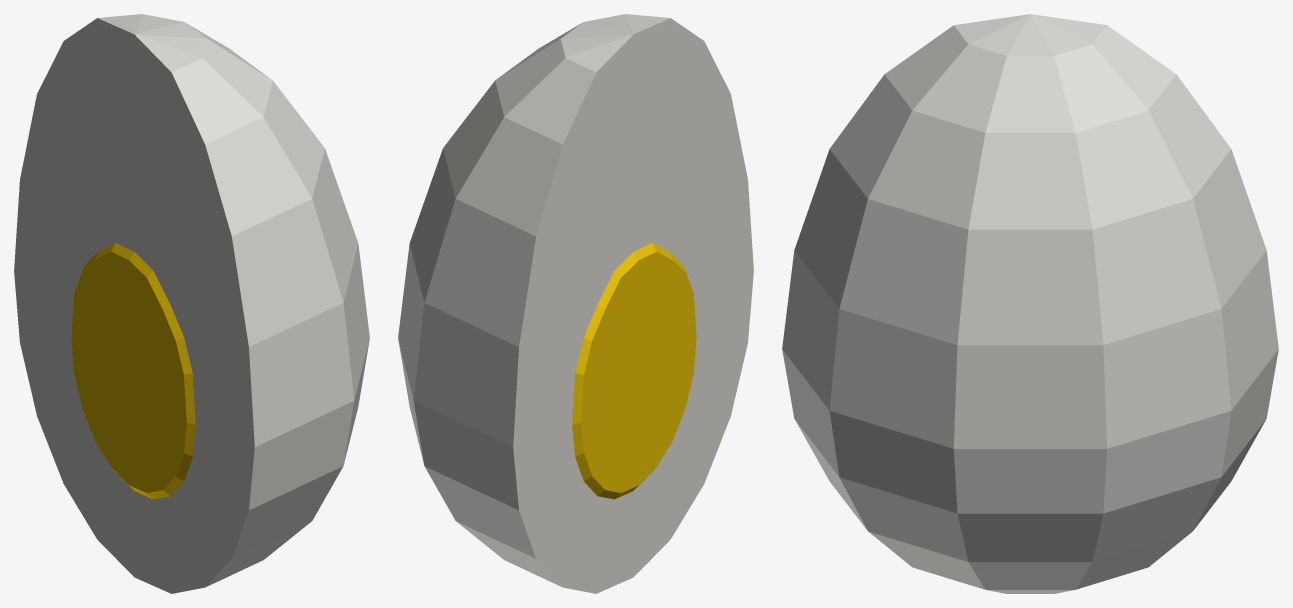
The model's file is Cooked_Egg.fbx.
3 views of the same model, side by side, from view 1: azimuth 30°, elevation 25°; view 2: azimuth 150°, elevation 25°; view 3: azimuth 270°, elevation 25° (orthographic). The views are drawn at different scales.
Parts seen in each view (by area): view 1: pasted__pSphere1; view 2: pasted__pSphere1; view 3: pasted__pSphere1.
Part boxes in pixels (box(x1,y1,x2,y2)): pasted__pSphere1: box(14, 14, 369, 593); pasted__pSphere1: box(398, 14, 753, 593); pasted__pSphere1: box(782, 14, 1278, 593).
Size of the model in its own units: 0.6365 by 1.62 by 1.3.
